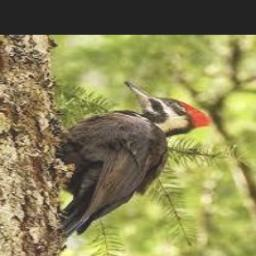Woodpecker: (54, 80, 211, 239)
